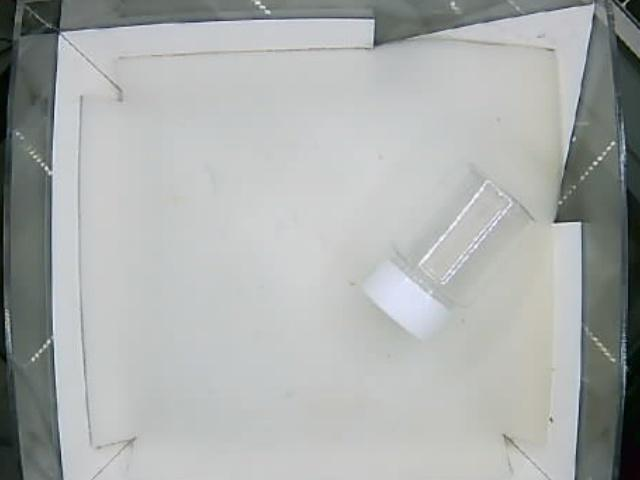Bottle: (359, 163, 537, 346)
